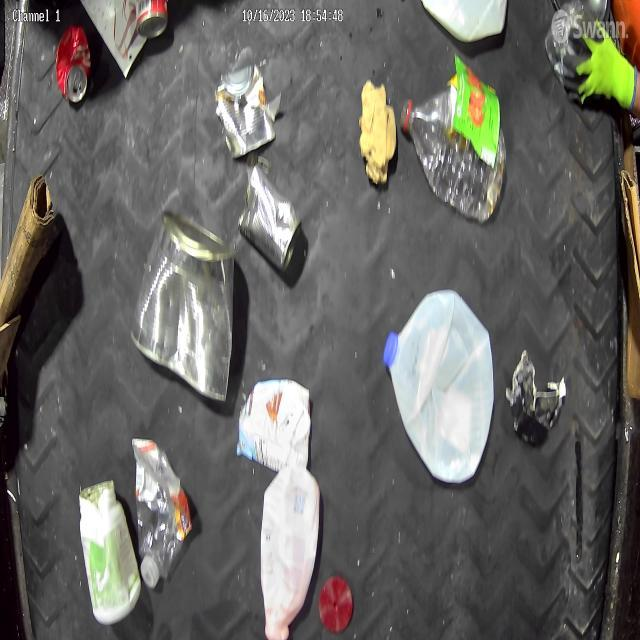can: (130, 208, 236, 404), (237, 164, 303, 274), (215, 62, 277, 160), (55, 26, 91, 104), (136, 0, 168, 38)
milk_jug: (383, 287, 494, 487), (258, 466, 322, 640), (237, 376, 312, 474), (421, 0, 508, 43)
plastic_bottle: (400, 90, 508, 225), (132, 436, 192, 589)
